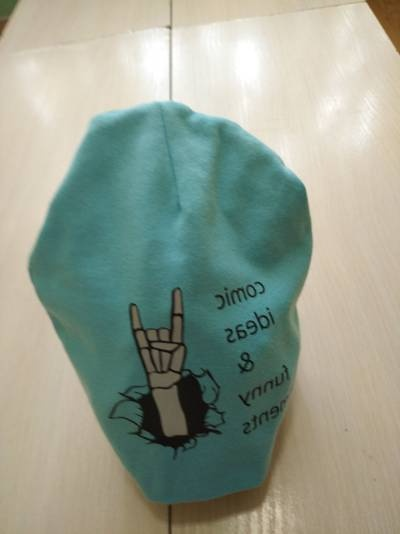Hat: (23, 81, 331, 506)
